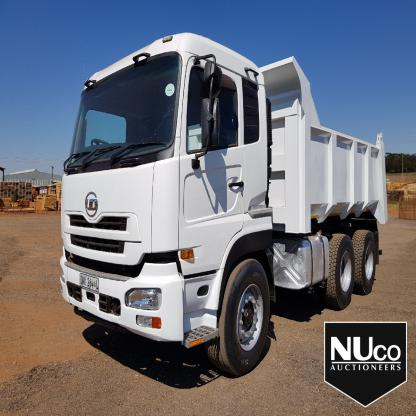dump_truck: (52, 21, 402, 380)
